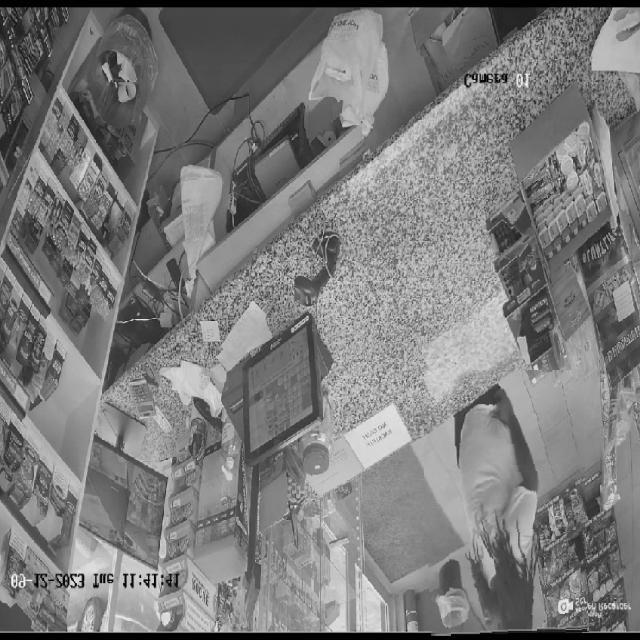Normal: (424, 370, 587, 636)
